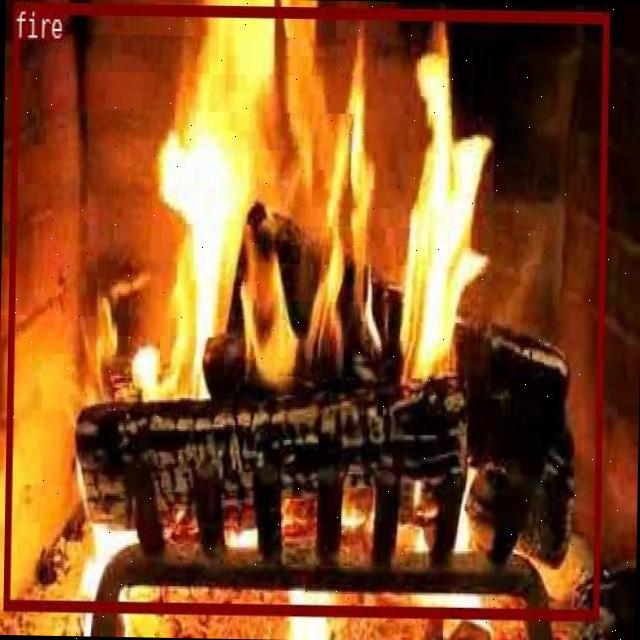fire: (2, 0, 607, 617)
